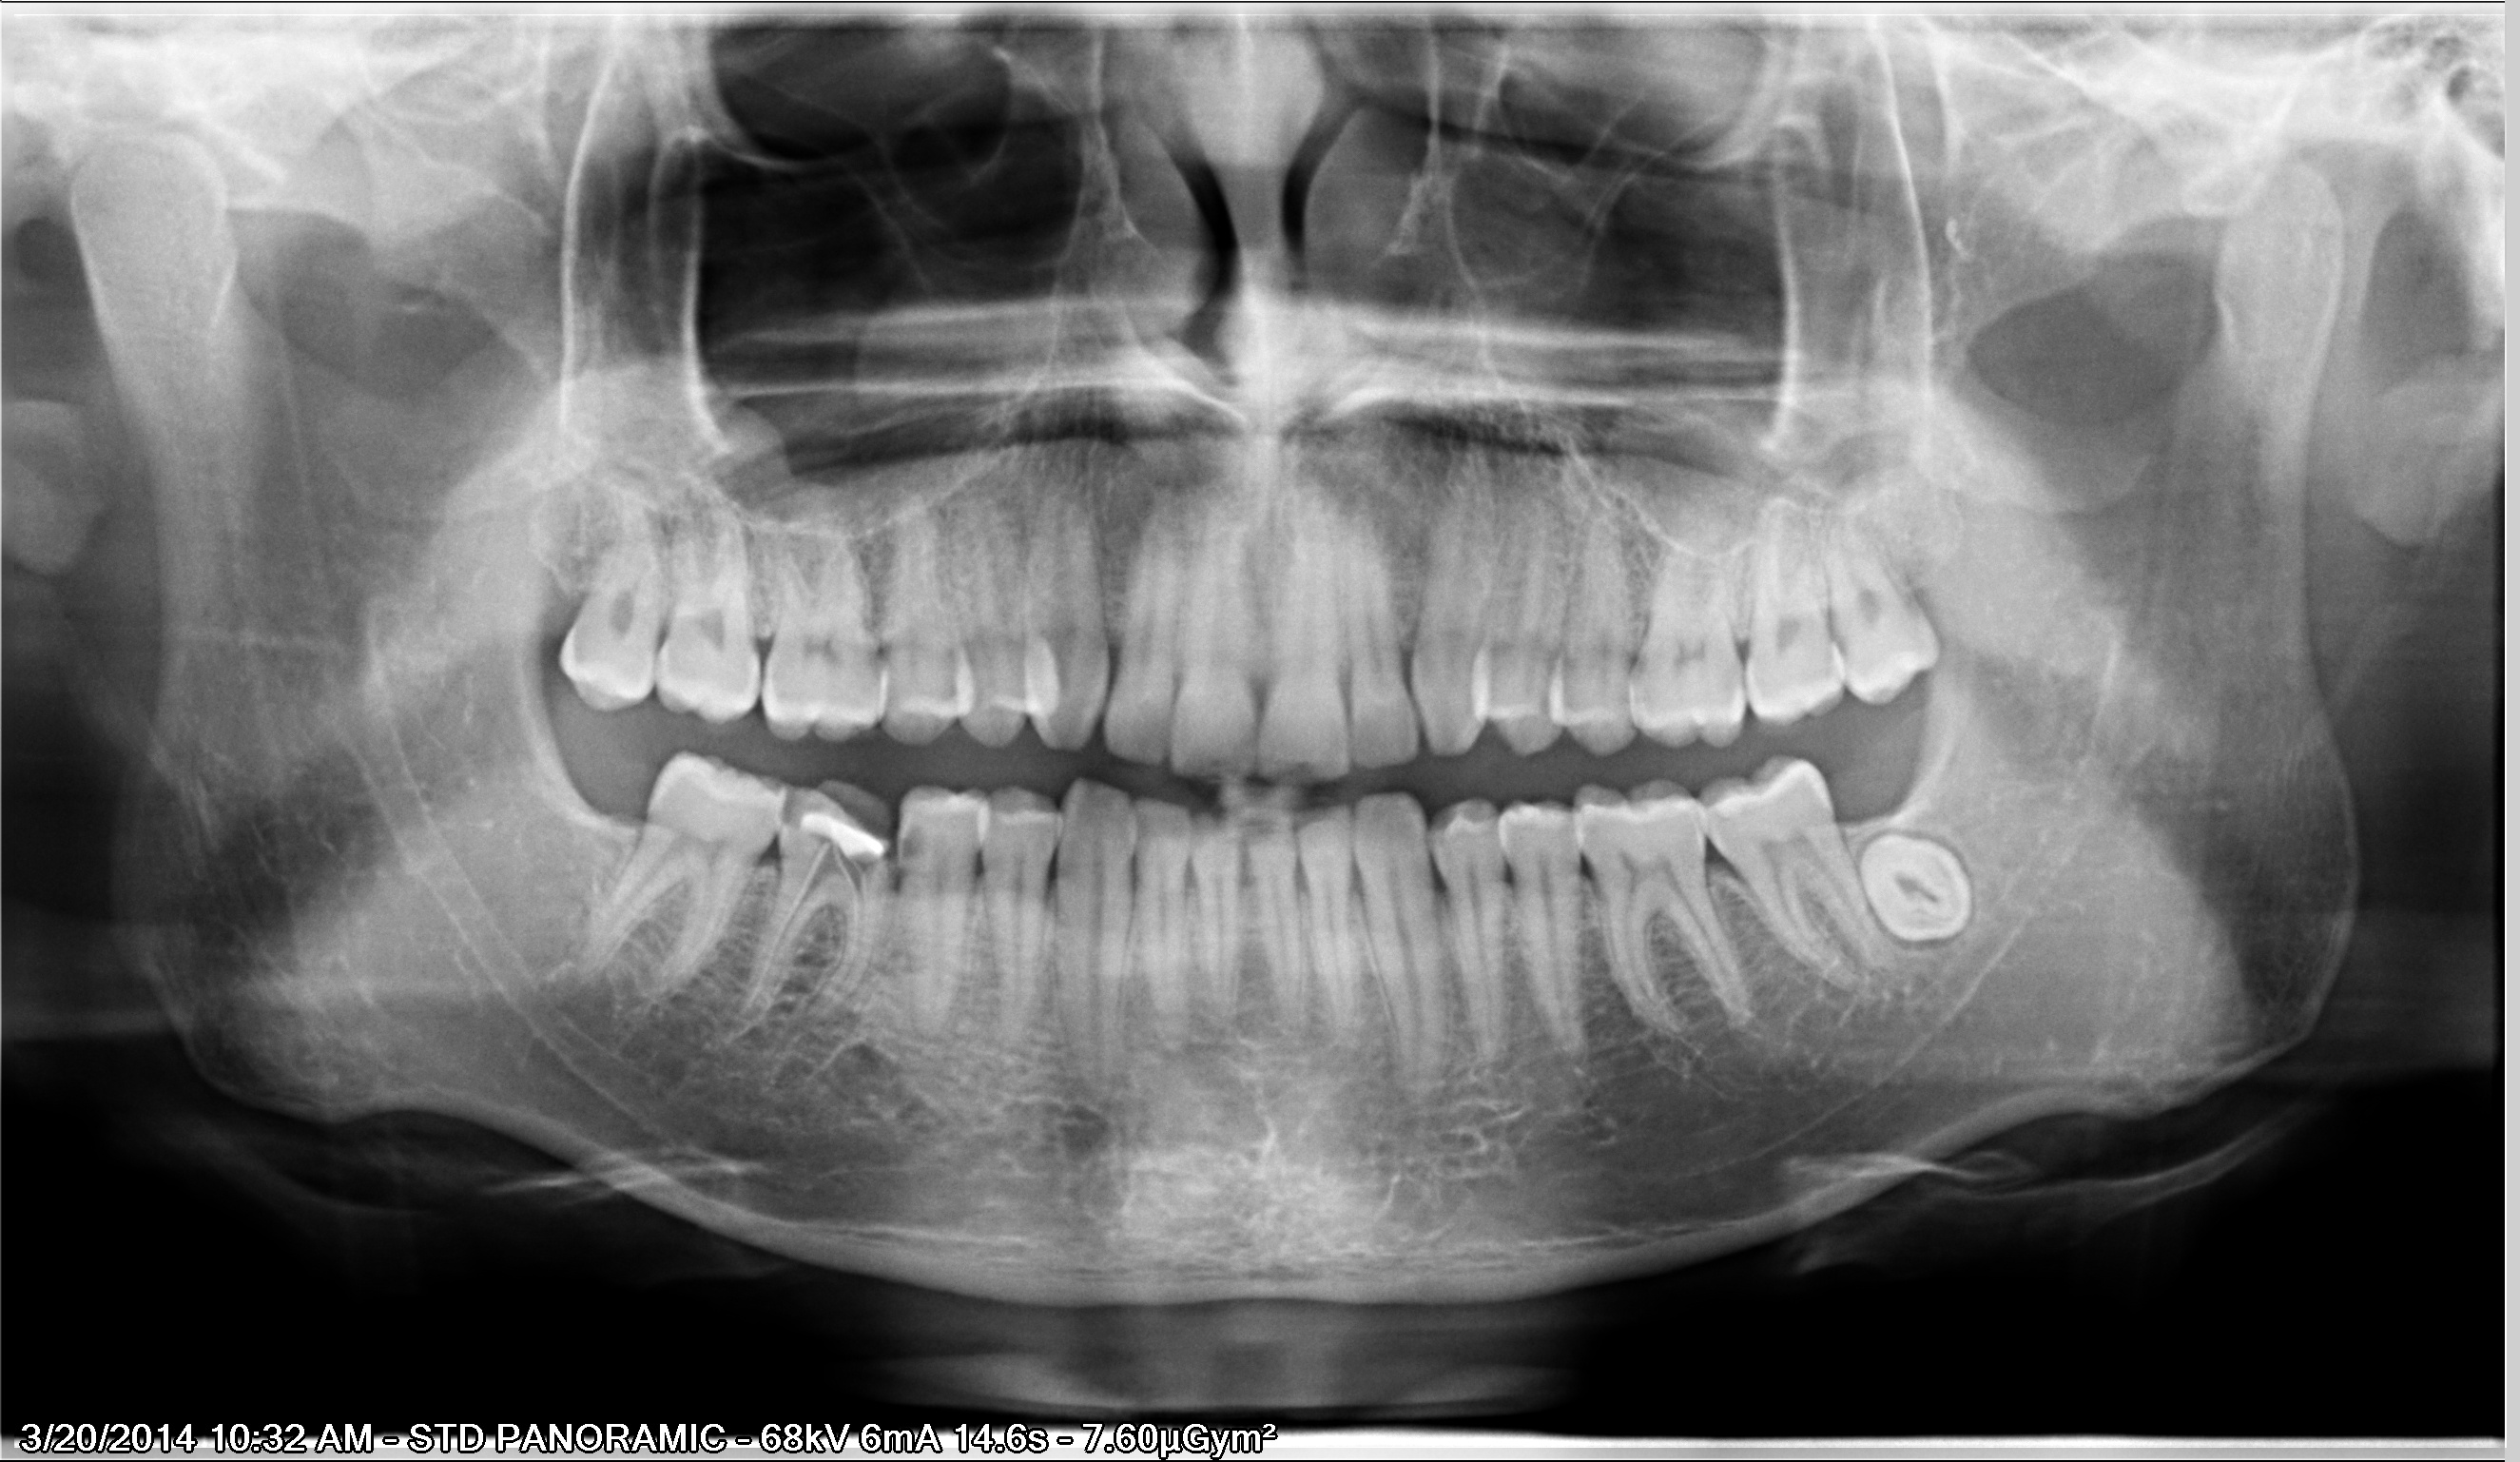CAR: (755, 781, 828, 848), (889, 802, 943, 888), (849, 828, 901, 896)
IMT: (1840, 781, 2003, 987)
